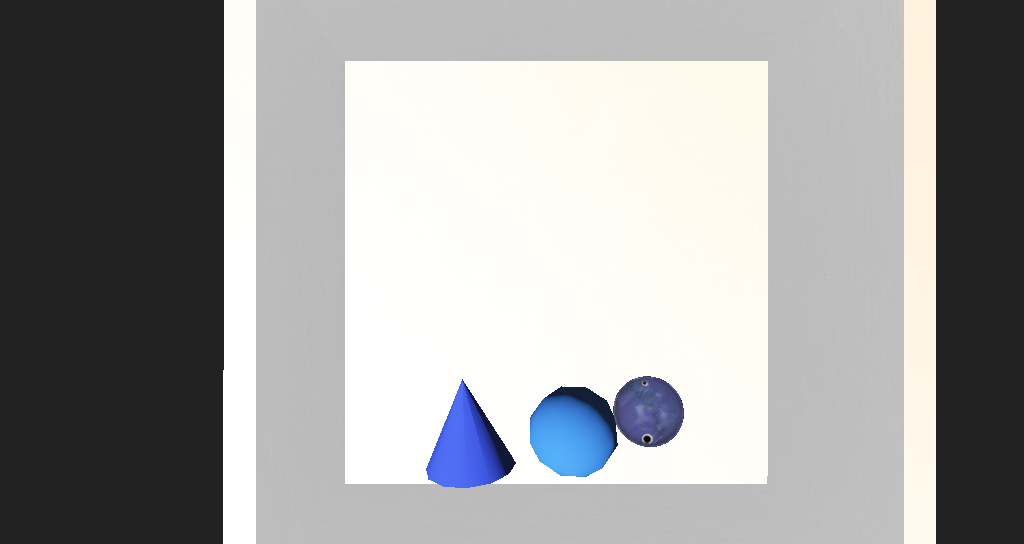cone: (539, 315, 606, 363)
cylinder: (404, 317, 472, 379)
sphere: (488, 327, 549, 370)
